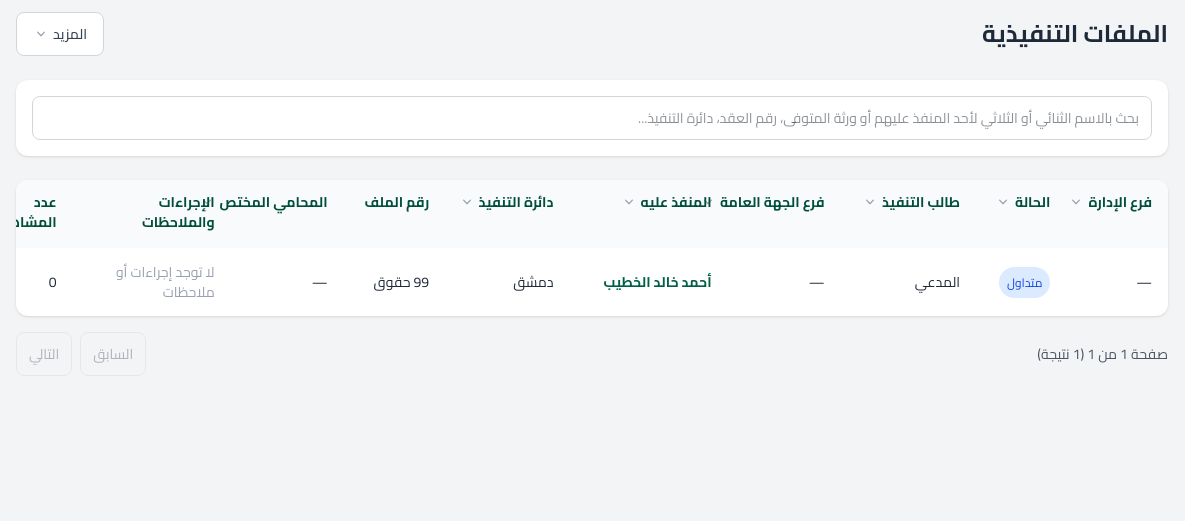
Test: DocumentsList › يُلغي «عرض الكل» الفلتر النشط ويغلق قائمة العمود ويميز السهم بلون الفلتر النشط
Step 1. Click the button with aria-label "فلترة الحالة" → (1023, 214), box [995,192,1050,236]
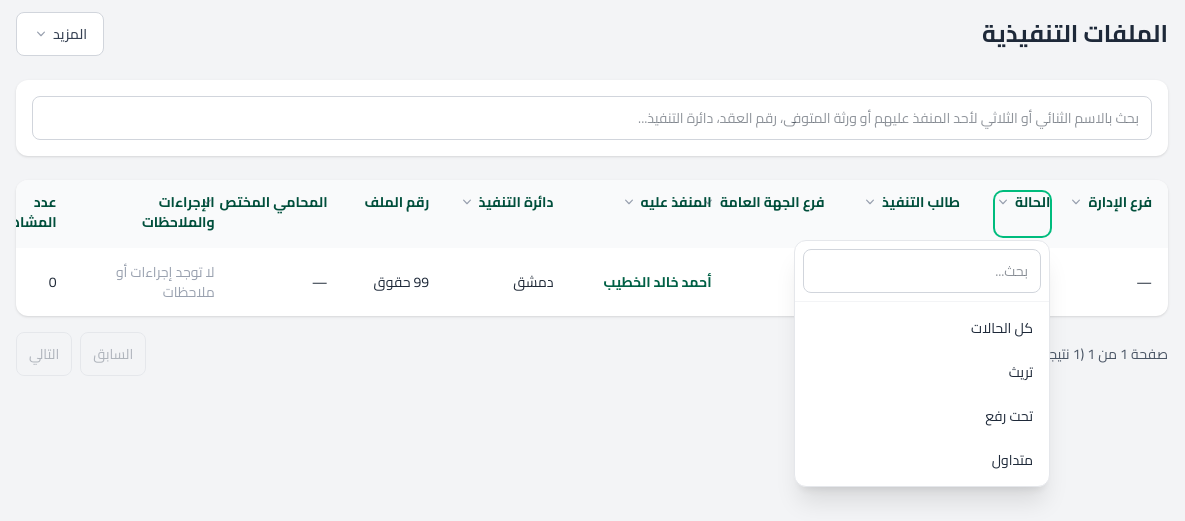
Step 2. Click the menu item "متداول" → (922, 460), box [795,438,1049,482]
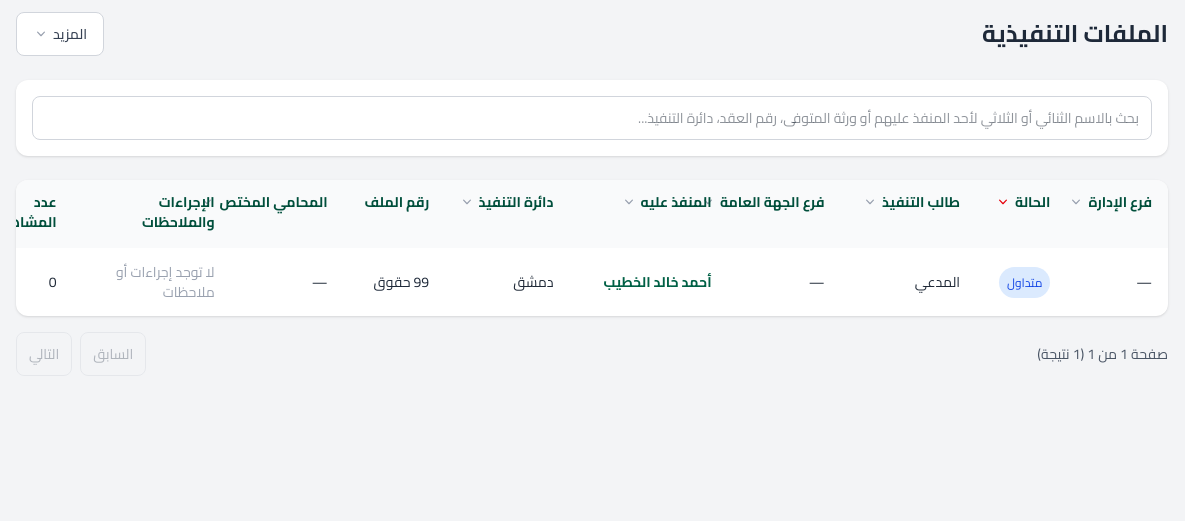
Result: the 5th icon has class "text-red-600" at [995,194,1011,210]
Step 3. Click the button with aria-label "فلترة الحالة" → (1023, 214), box [995,192,1050,236]
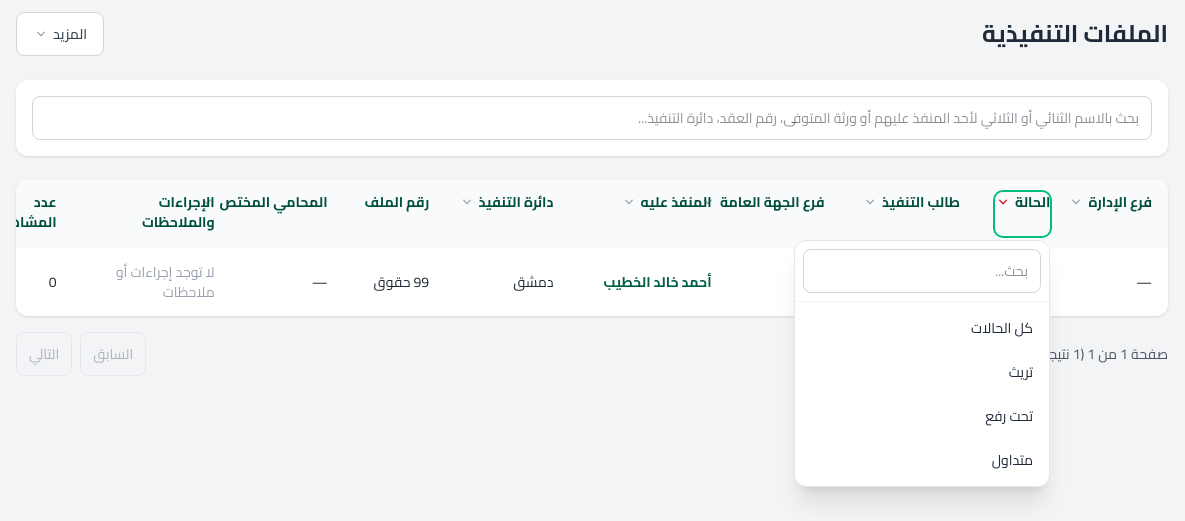
Step 4. Click the menu item "كل الحالات" → (922, 328), box [795,306,1049,350]
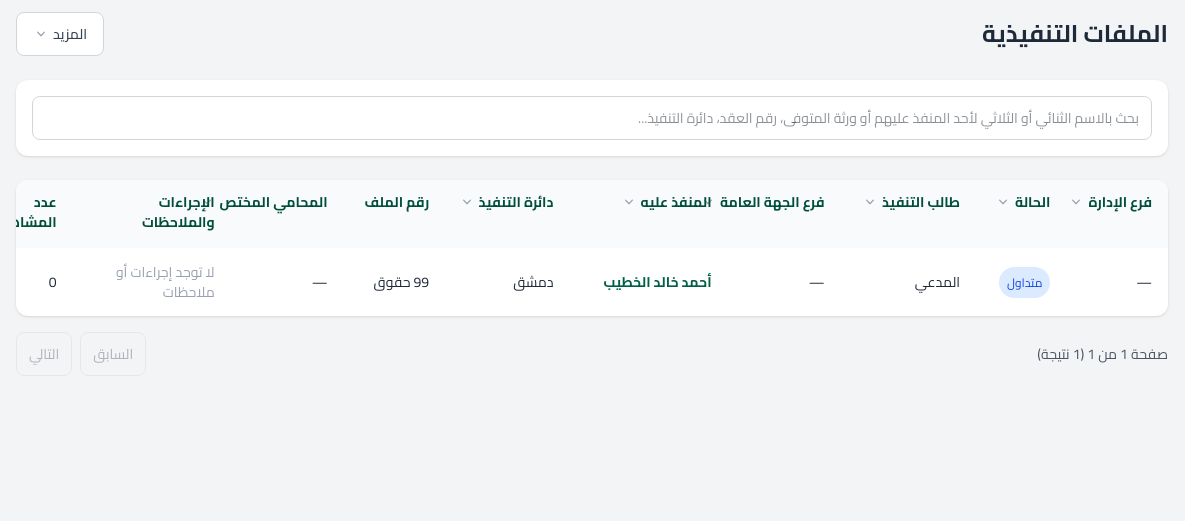
Result: the menu is gone
